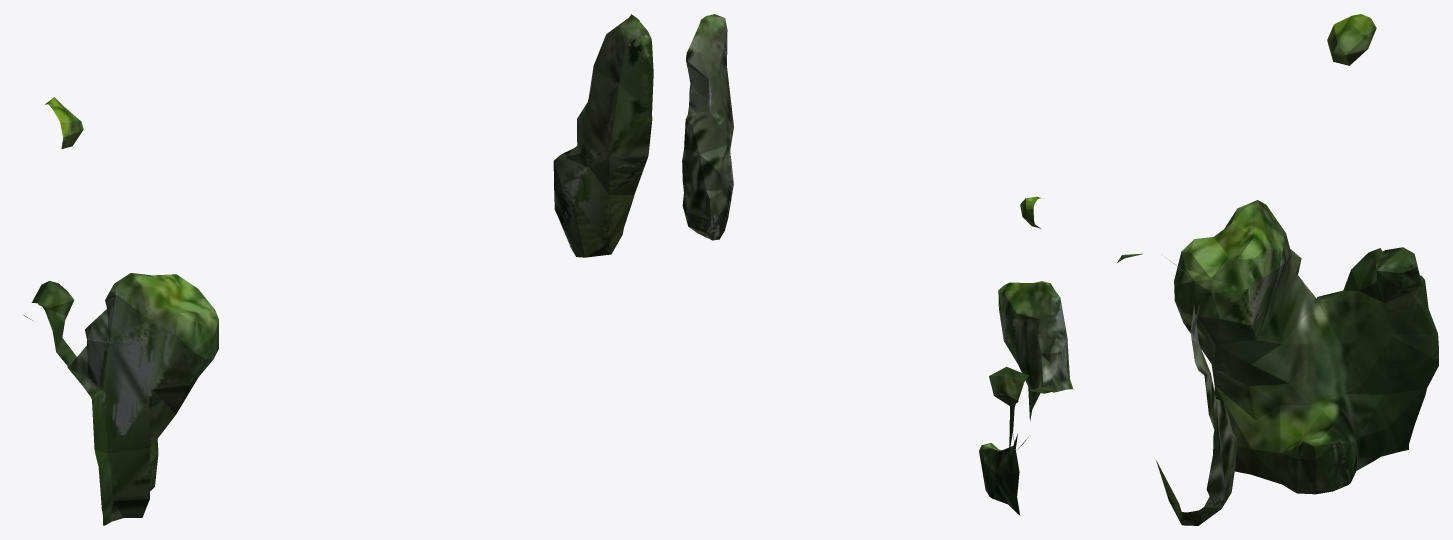
3 renders of one model, left to right at view 1: azimuth 30°, elevation 25°; view 2: azimuth 150°, elevation 25°; view 3: azimuth 270°, elevation 25°, orthographic. The views are drawn at different scales.
Size of the model in its own units: 0.8374 by 0.6686 by 0.4194.
Materials: 1 (1 with a texture image).
